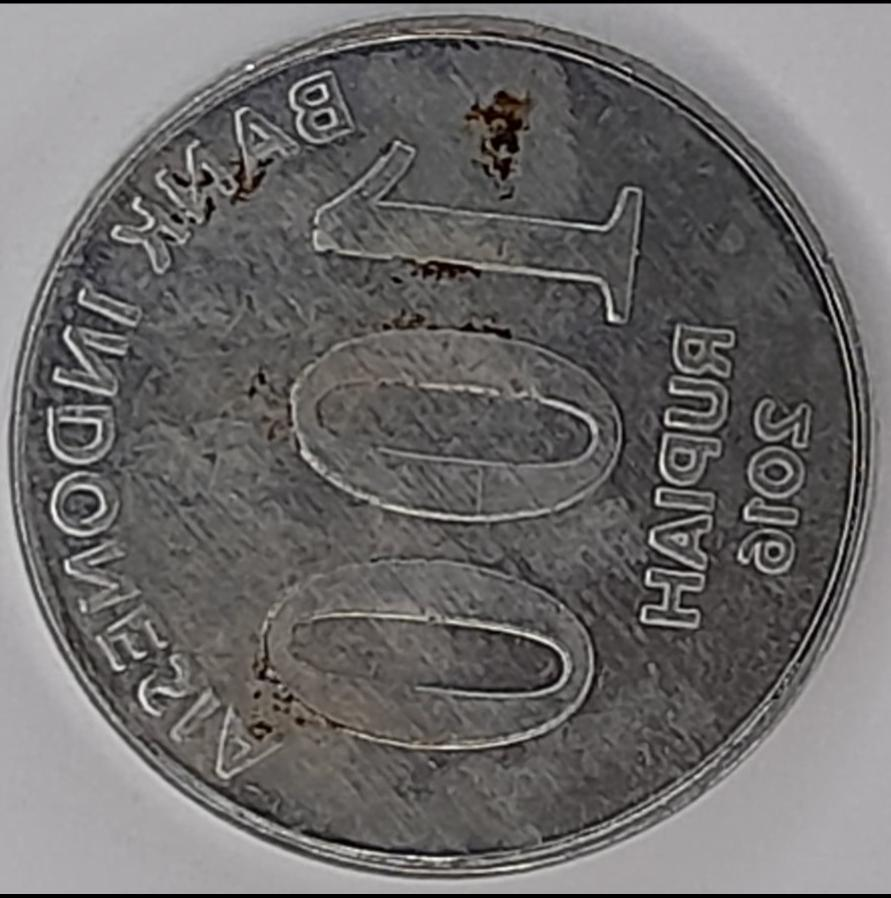coin_100_e2016: (2, 9, 880, 879)
